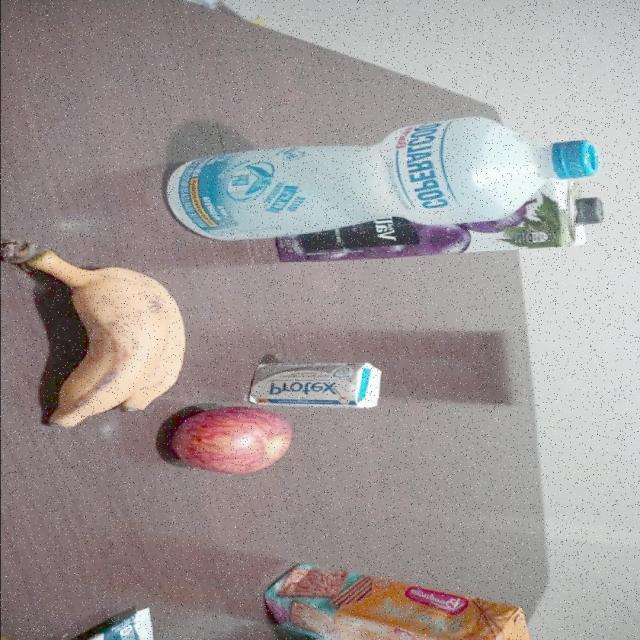AlcoholBottle: (159, 116, 600, 241)
Apple: (169, 404, 293, 477)
Banana: (0, 240, 187, 428)
Cracker: (263, 562, 536, 640)
Popcorn: (69, 607, 169, 640)
Soap: (245, 360, 381, 409)
